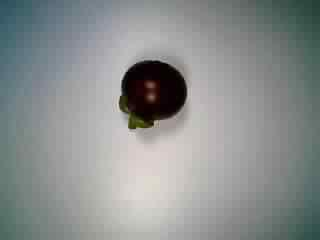mangosteen: (116, 55, 192, 133)
